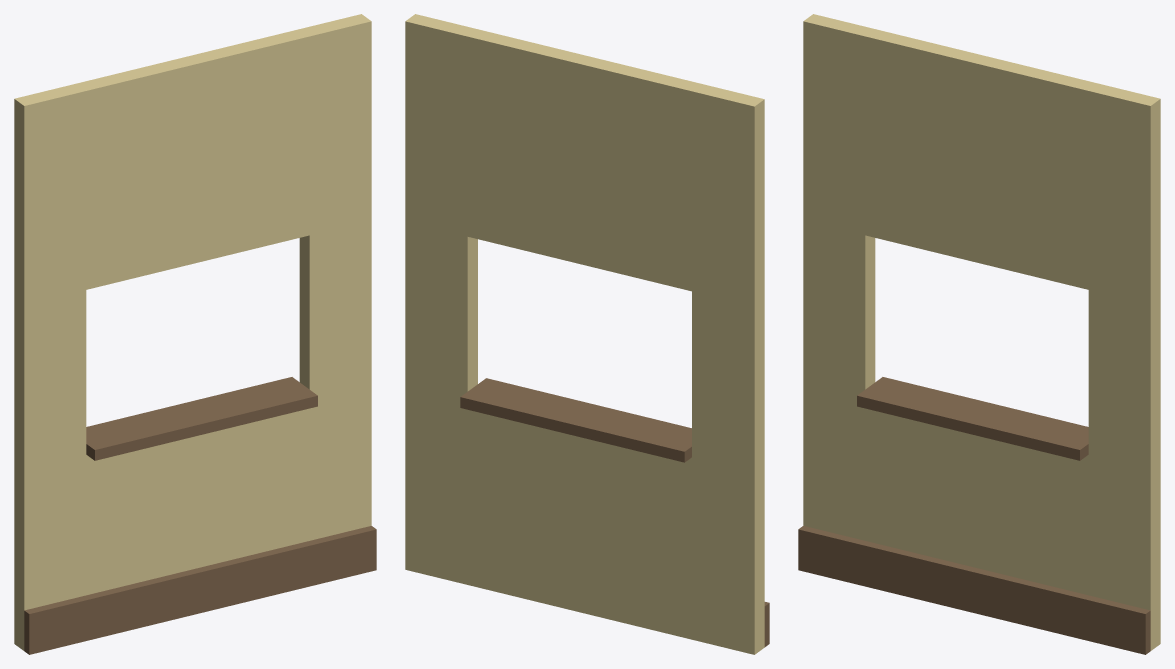
The model's file is Mesh_WallBaseboard_I3.fbx.
3 views of the same model, side by side, from view 1: azimuth 30°, elevation 25°; view 2: azimuth 150°, elevation 25°; view 3: azimuth 330°, elevation 25° (orthographic).
Visible parts, largest first — view 1: Mesh_WallBaseboard_I3; view 2: Mesh_WallBaseboard_I3; view 3: Mesh_WallBaseboard_I3.
Boxes of the visible parts, left/top/right/bottom form: Mesh_WallBaseboard_I3: left=14, top=14, right=376, bottom=654; Mesh_WallBaseboard_I3: left=405, top=14, right=769, bottom=654; Mesh_WallBaseboard_I3: left=798, top=14, right=1160, bottom=654.
Bounding box in the file's own units: 2 × 3 × 0.2574.
